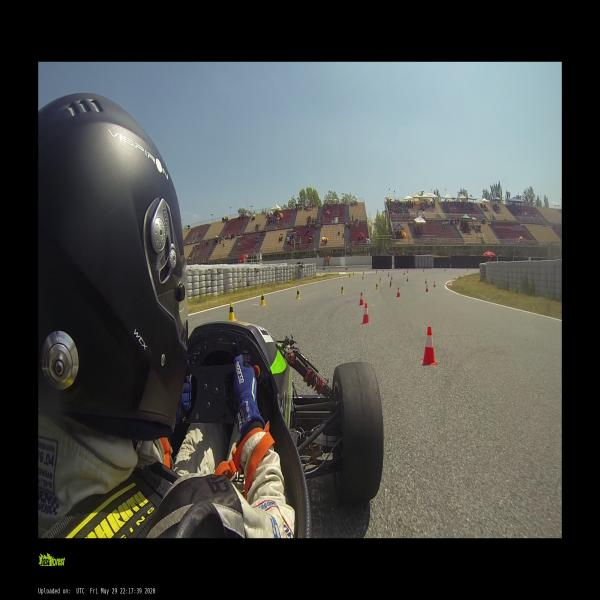orange_cone: (419, 327, 438, 366), (361, 303, 370, 325), (359, 292, 364, 306), (397, 287, 400, 298), (433, 280, 436, 288), (426, 284, 428, 292), (425, 278, 427, 283), (407, 276, 408, 281)
yellow_cone: (228, 302, 235, 320), (261, 292, 265, 305), (296, 288, 300, 299), (341, 284, 344, 294), (376, 283, 378, 290), (390, 280, 392, 287), (380, 277, 381, 283)
